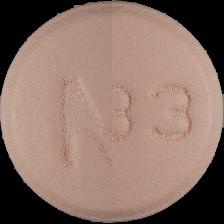0378-0433: (0, 0, 224, 224)
